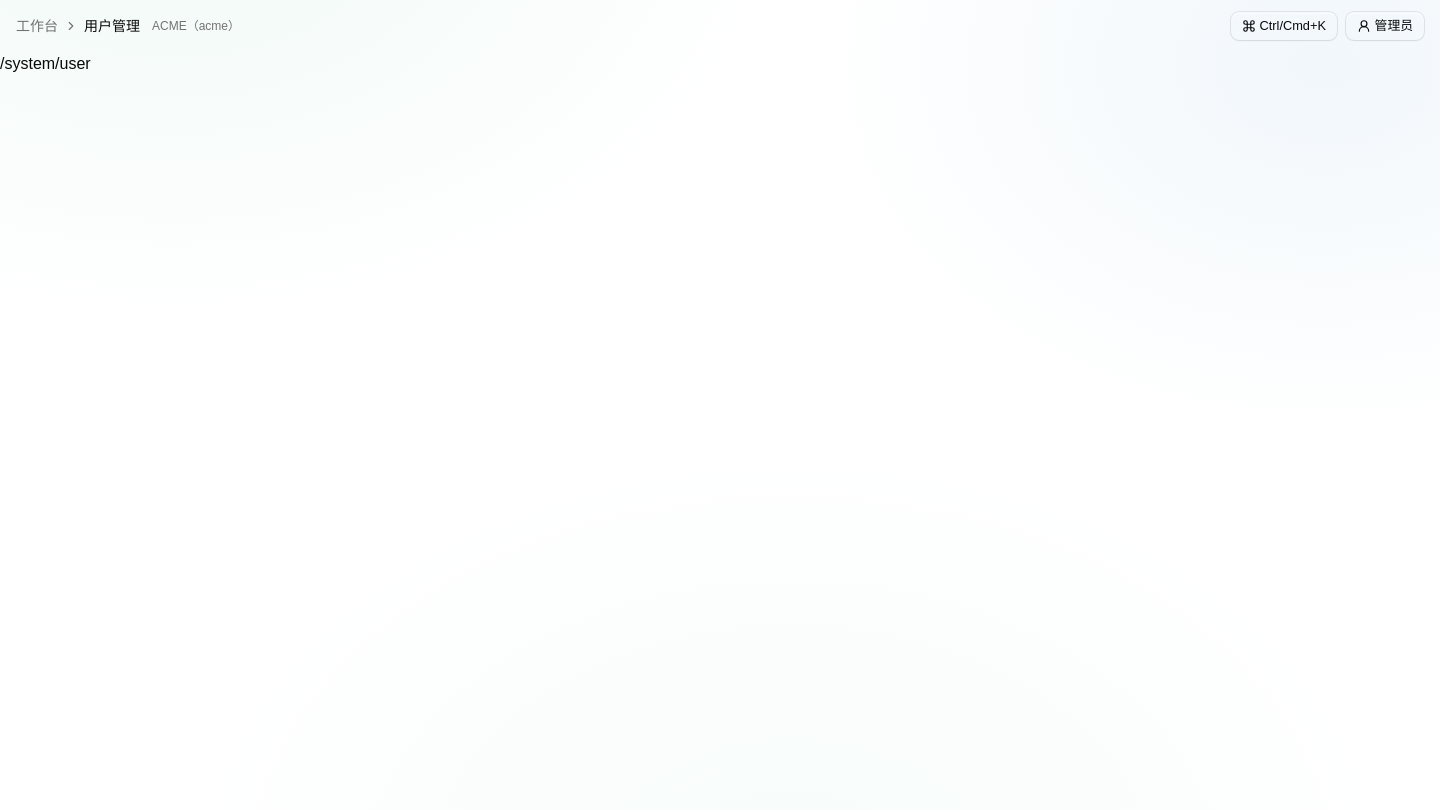
Test case: Topbar › opens command palette via Ctrl+K and Meta+K, then navigates on select
The image size is (1440, 810).
Expected: the text "ACME（acme）" is shown, [152,18,240,34]
Press k
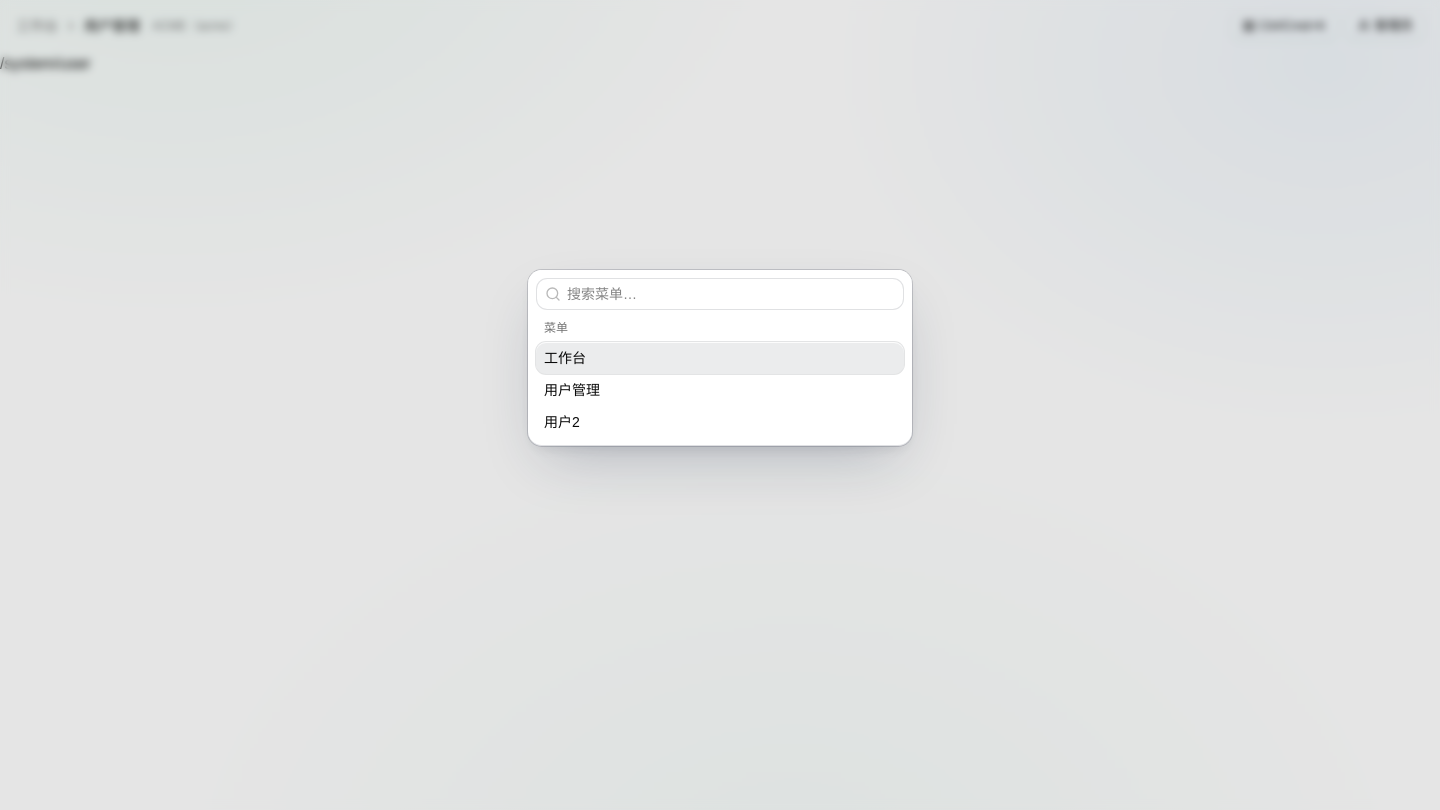
Expected: the dropdown with placeholder "搜索菜单…" is shown, [561,284,903,304]
Click the option "用户管理" at coordinates (572, 390), box [544,382,600,398]
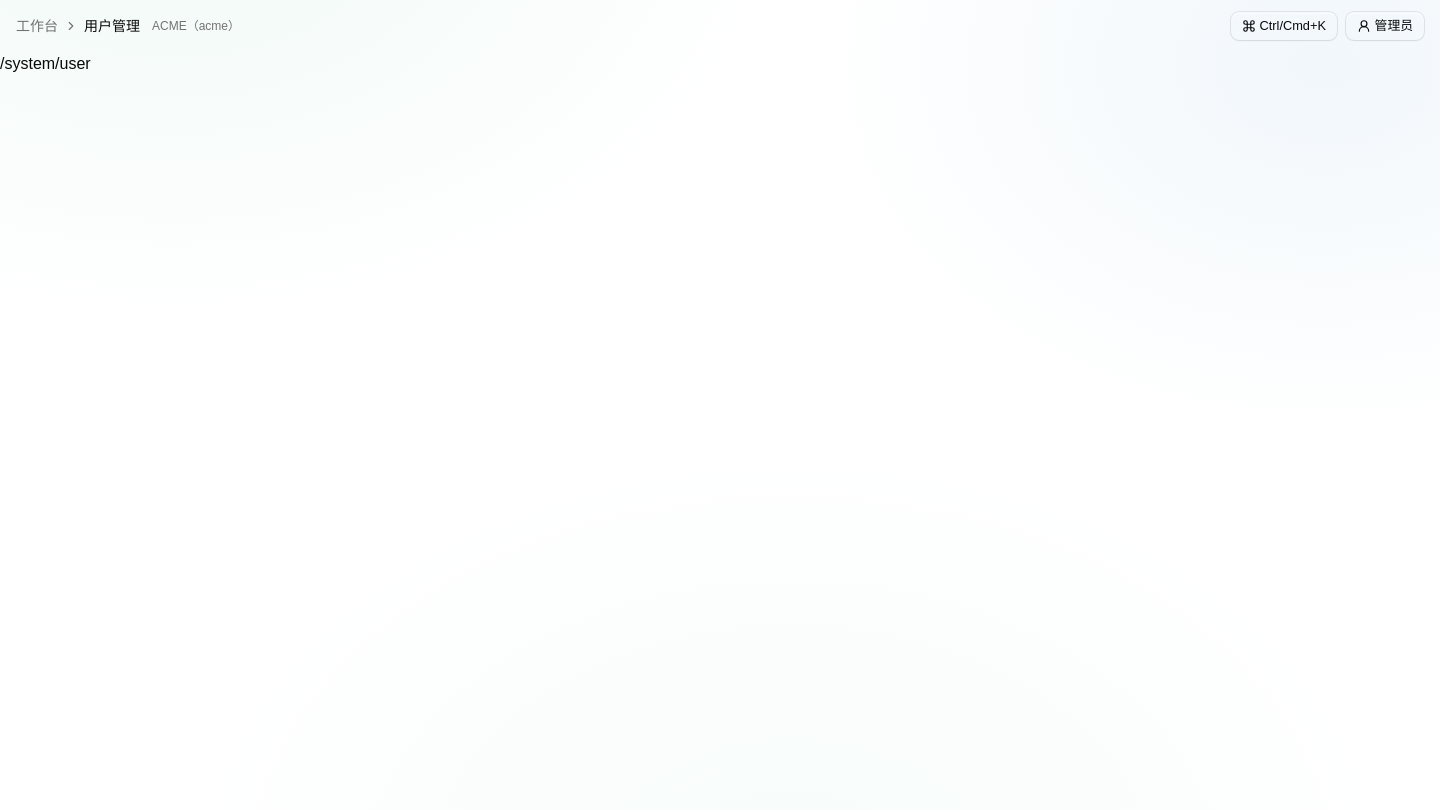
Expected: the text with test id "location" reads "/system/user", [0,55,91,72]
Expected: the dropdown with placeholder "搜索菜单…" is gone
Press k
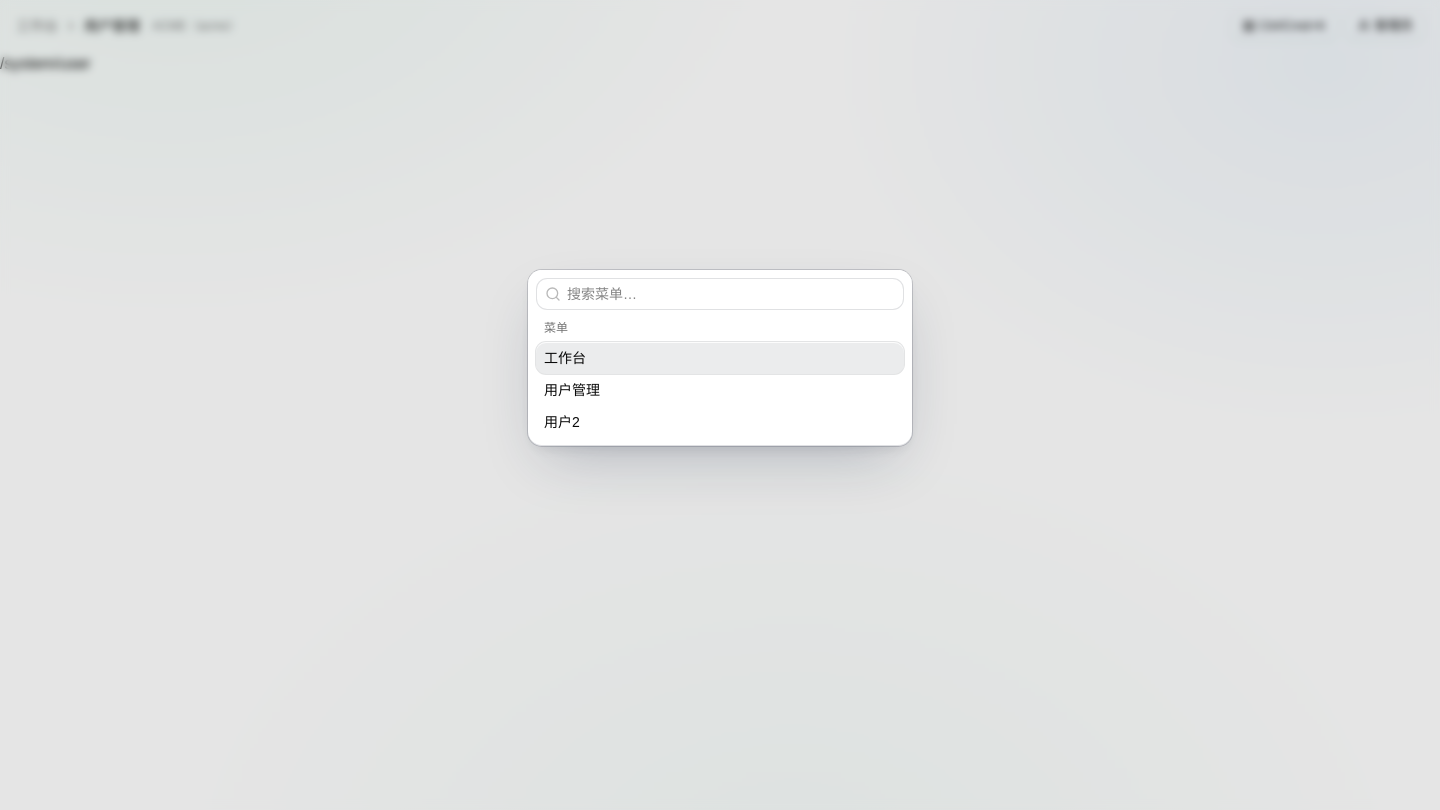
Expected: the dropdown with placeholder "搜索菜单…" is shown, [561,284,903,304]
